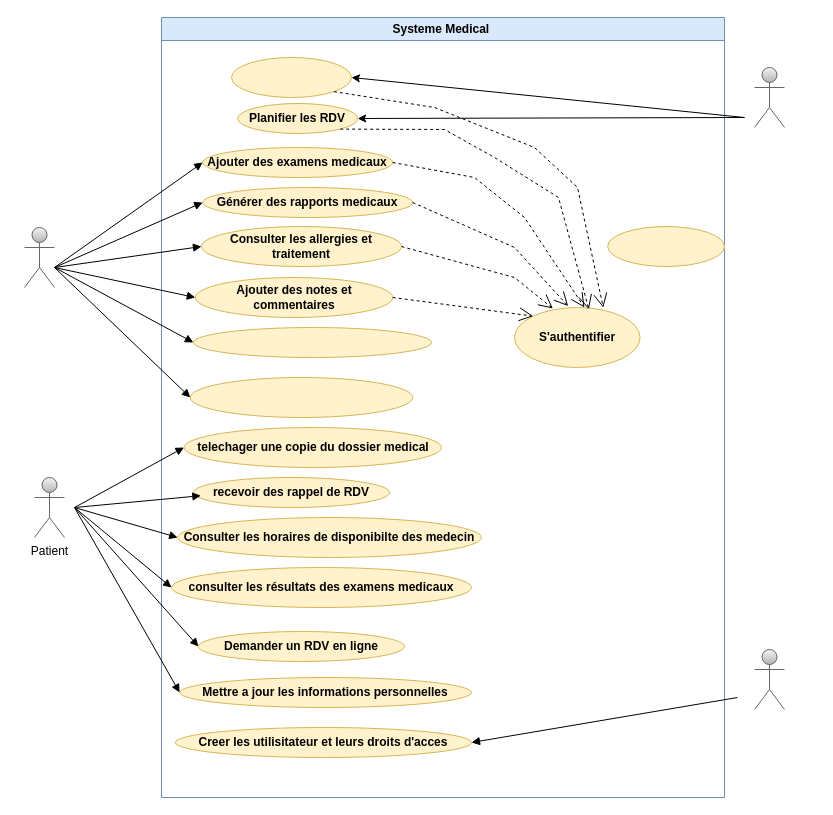
This 833x815 diagram has some shape labels left out. The shapes that lost their labels are listed below. From the top down, each one's centre as x and y in pixels, then its label:
At pixel 291 77: "Générer les factures".
At pixel 769 97: "Assistant Medical".
At pixel 39 257: "Medecin".
At pixel 665 246: "Verifier Mot de Passe".
At pixel 312 342: "Imprimer le dossier medical complet".
At pixel 301 397: "Consulter l'historique des consultations".
At pixel 769 679: "Administrateur".
